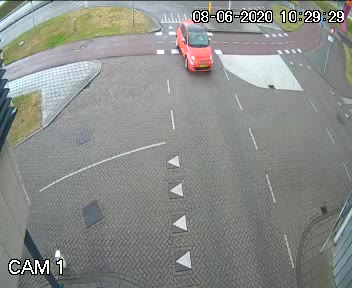car: (166, 15, 221, 81)
